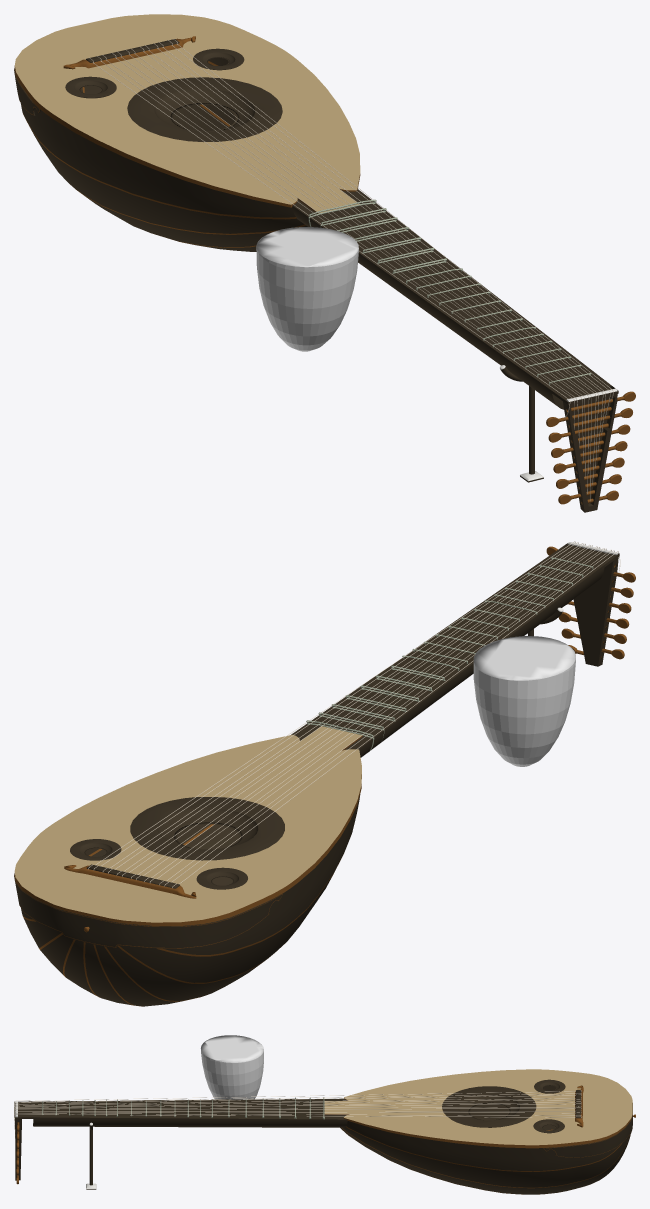
The model's file is kaban.fbx.
3 renders of one model, top to bottom at view 1: azimuth 30°, elevation 25°; view 2: azimuth 150°, elevation 25°; view 3: azimuth 270°, elevation 25°, orthographic. The views are drawn at different scales.
Parts seen in each view (by area): view 1: Cube, Cube.001, Cube.002, Boolean, BezierCurve.001, Sphère, Cube.004, Cube.003, Cube.007, Cube.005, Cube.012, Sphère.001 (+3 smaller); view 2: Cube, Cube.002, Cube.001, Boolean, BezierCurve.001, Sphère, Cube.011, Cube.003, Cube.004, Cube.007, Cube.012, Cube.009 (+3 smaller); view 3: Cube, Cube.002, Cube.001, BezierCurve.001, Boolean, Sphère, Cube.011, Cube.003, Sphère.004, Sphère.001, Cube.005, Cube.007.
Boxes of the visible parts, <box> form: Cube: <box>14,14,360,213</box>; Cube.001: <box>292,189,618,409</box>; Cube.002: <box>20,57,307,251</box>; Boolean: <box>256,227,358,351</box>; BezierCurve.001: <box>93,44,613,500</box>; Sphère: <box>127,77,282,142</box>; Cube.004: <box>546,391,635,504</box>; Cube.003: <box>563,394,617,512</box>; Cube.007: <box>309,199,446,273</box>; Cube.005: <box>500,365,543,482</box>; Cube.012: <box>308,202,445,273</box>; Sphère.001: <box>65,76,116,98</box>; Cube: <box>14,726,362,925</box>; Cube.002: <box>21,794,360,1006</box>; Cube.001: <box>291,543,619,757</box>; Boolean: <box>473,636,575,766</box>; BezierCurve.001: <box>95,541,620,884</box>; Sphère: <box>130,797,284,860</box>; Cube.011: <box>14,874,283,948</box>; Cube.003: <box>573,547,618,666</box>; Cube.004: <box>546,546,635,659</box>; Cube.007: <box>306,665,444,738</box>; Cube.012: <box>307,668,445,751</box>; Cube.009: <box>64,865,196,898</box>; Cube: <box>324,1069,632,1148</box>; Cube.002: <box>340,1085,630,1194</box>; Cube.001: <box>15,1098,347,1127</box>; BezierCurve.001: <box>14,1091,575,1138</box>; Boolean: <box>200,1035,263,1099</box>; Sphère: <box>442,1086,536,1127</box>; Cube.011: <box>543,1086,632,1157</box>; Cube.003: <box>15,1106,22,1180</box>; Sphère.004: <box>533,1119,564,1133</box>; Sphère.001: <box>534,1079,565,1093</box>; Cube.005: <box>86,1122,96,1189</box>; Cube.007: <box>228,1097,324,1119</box>.
Size of what is drawn, in the model's own units: 30.93 by 18.76 by 99.09.
